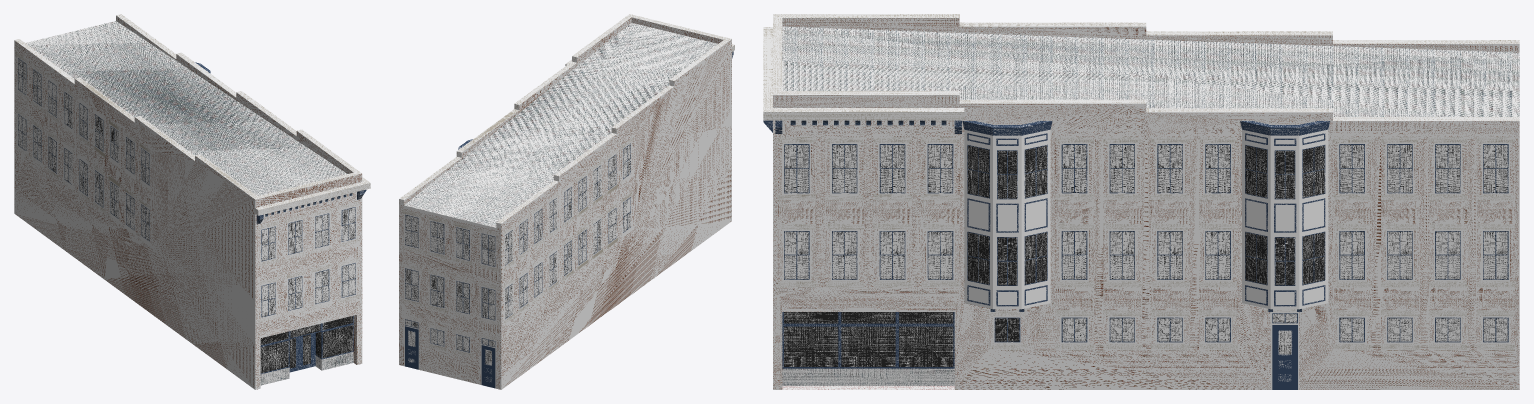
Rendered from Building03.fbx.
3 renders of one model, left to right at view 1: azimuth 30°, elevation 25°; view 2: azimuth 150°, elevation 25°; view 3: azimuth 270°, elevation 25°, orthographic. The views are drawn at different scales.
Parts seen in each view (by area): view 1: Group1; view 2: Group1; view 3: Group1.
Boxes of the visible parts, <box> form: Group1: <box>14,14,370,389</box>; Group1: <box>399,14,734,389</box>; Group1: <box>763,14,1519,389</box>.
Size of the model in its own units: 259 by 408 by 948.
